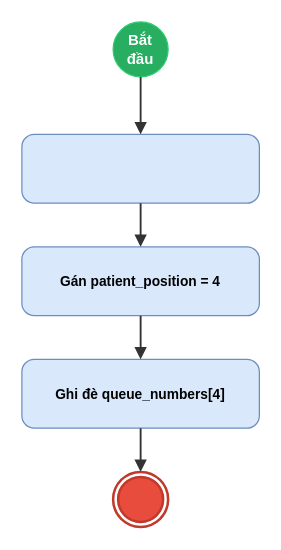
This 281x550 diagram has some shape labels left out. The centre of each missing label's shape, as x and y in pixels:
Khai báo mảng queue_numbers: the point at 140,168
Kết thúc: the point at 140,499
